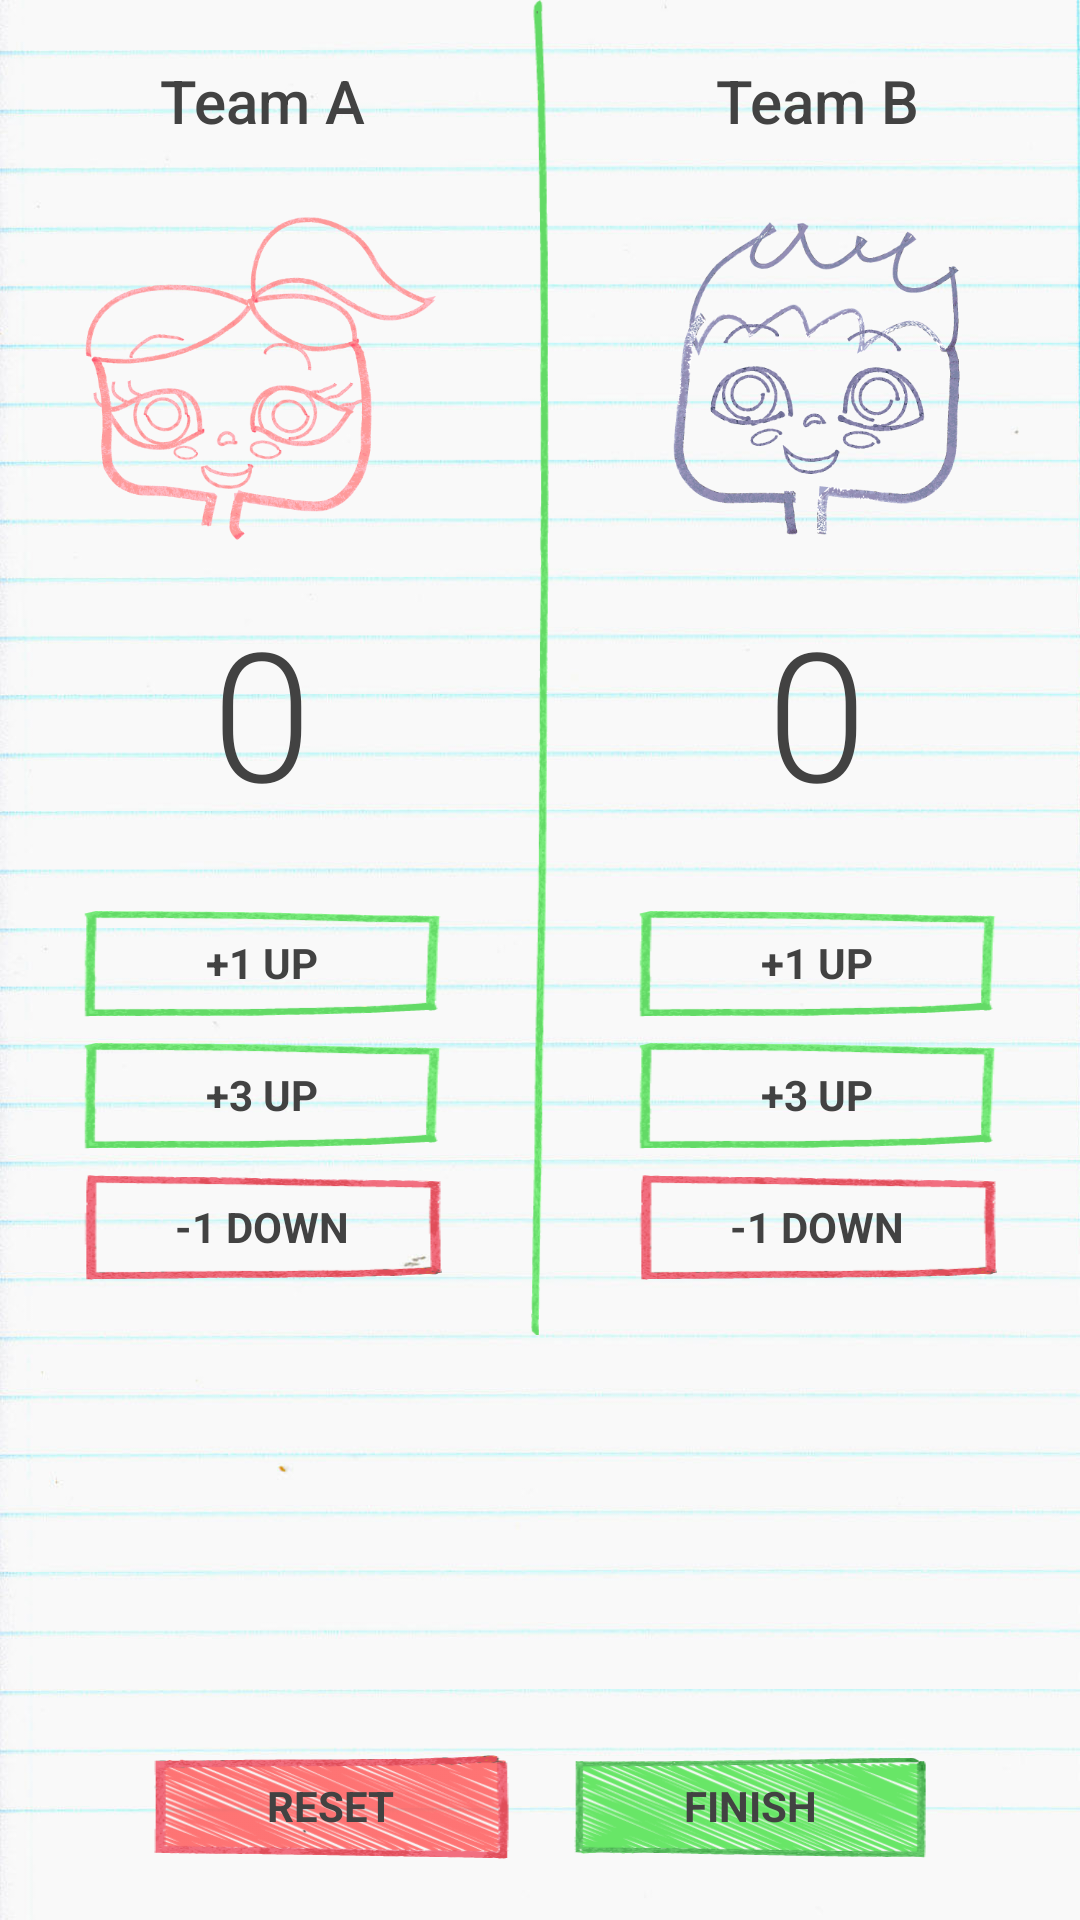

Icon click points for this 1080px x 1920px phone screenshot, format (x=x, y=y):
pen drawings: (x=262, y=378), (x=817, y=378)
